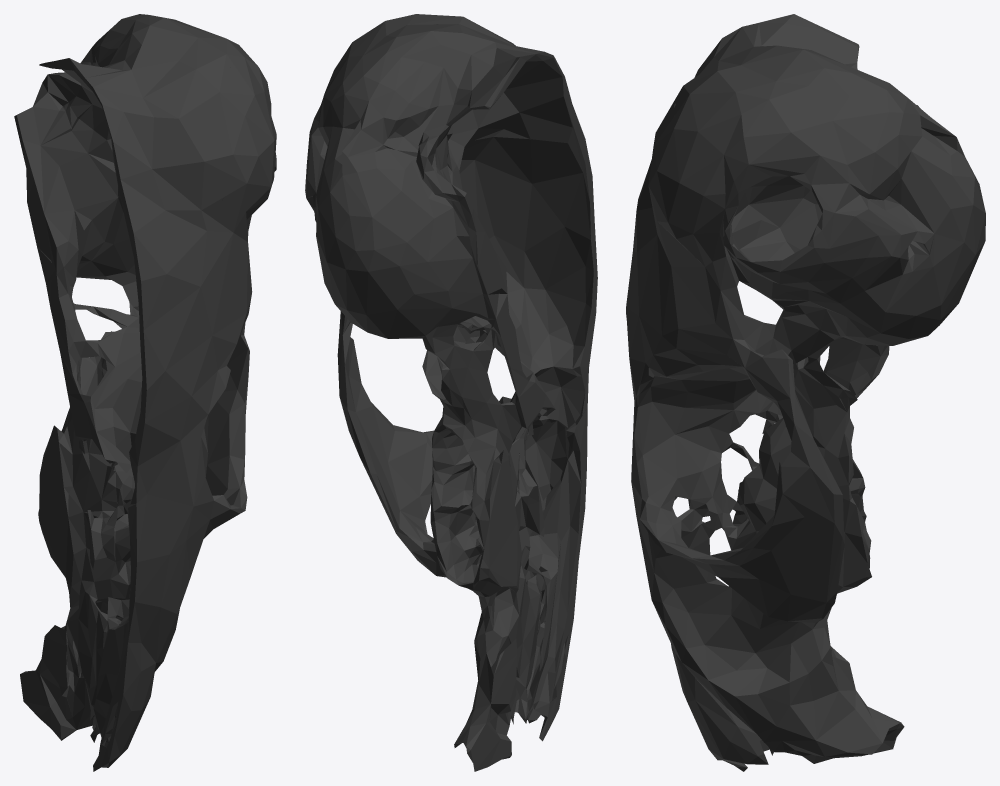
3 renders of one model, left to right at view 1: azimuth 30°, elevation 25°; view 2: azimuth 150°, elevation 25°; view 3: azimuth 270°, elevation 25°, orthographic. The views are drawn at different scales.
Visible parts, largest first — view 1: world; view 2: world; view 3: world.
Part boxes in pixels (<box>): world: <box>14,14,276,771</box>; world: <box>305,14,597,771</box>; world: <box>626,14,985,771</box>.
Size of the model in its own units: 0.7092 by 2.48 by 1.06.
Materials: 1 (1 with a texture image).
